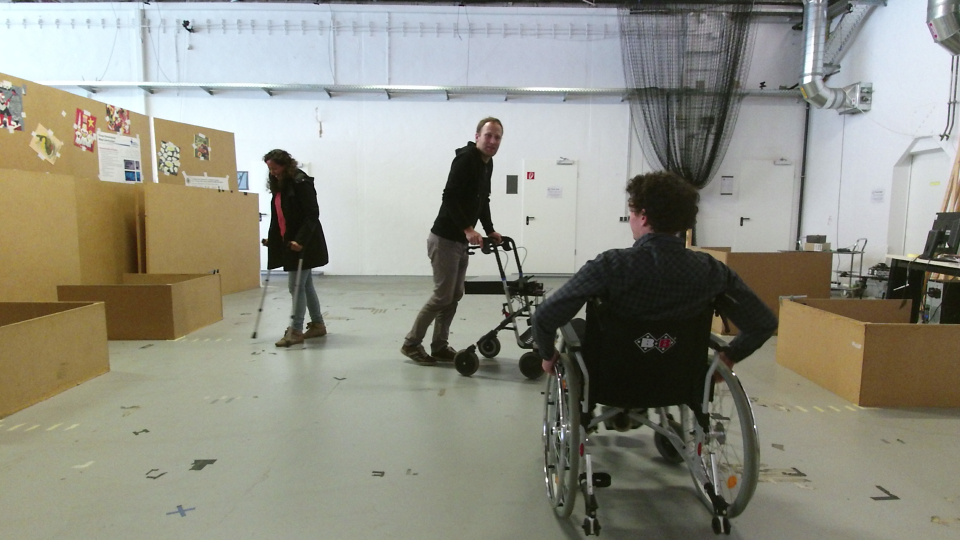crutches: (248, 143, 332, 350)
wheelchair: (523, 164, 786, 540)
